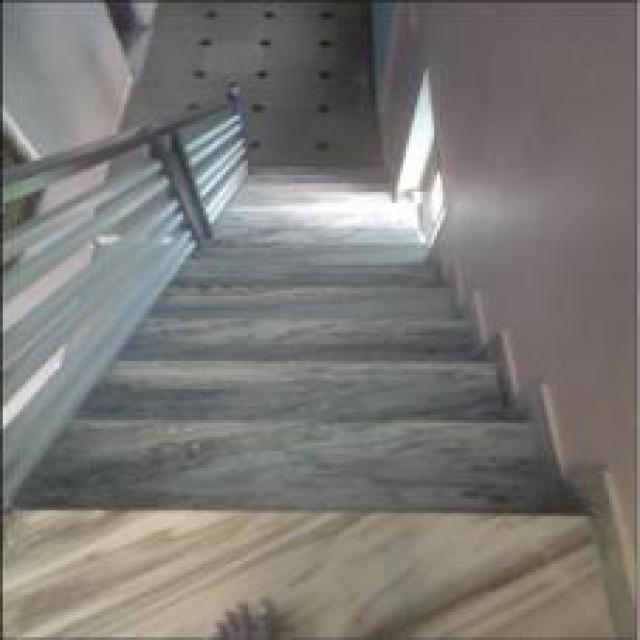downstair: (41, 328, 497, 554)
